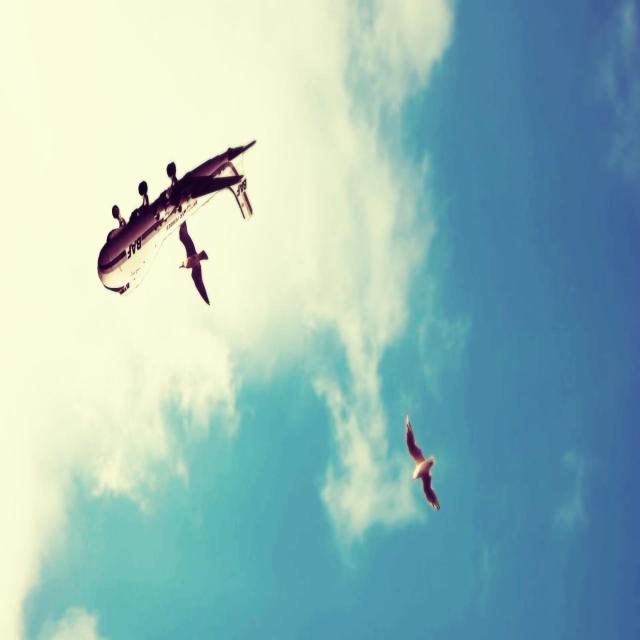airplane: (97, 138, 257, 305)
